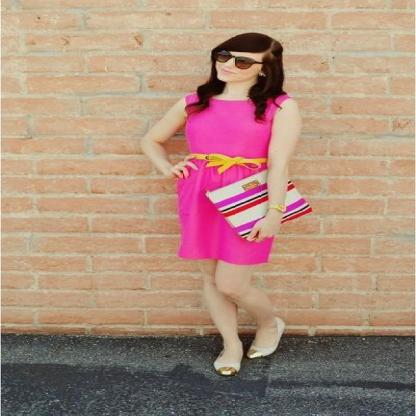bag: (206, 175, 311, 227)
dress: (177, 94, 289, 264)
shoe: (214, 337, 279, 374)
